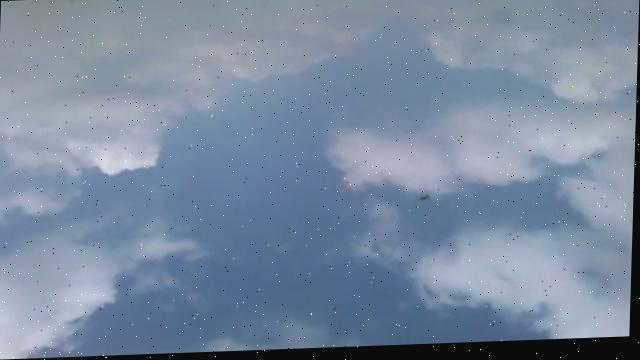drone: (417, 193, 433, 208)
